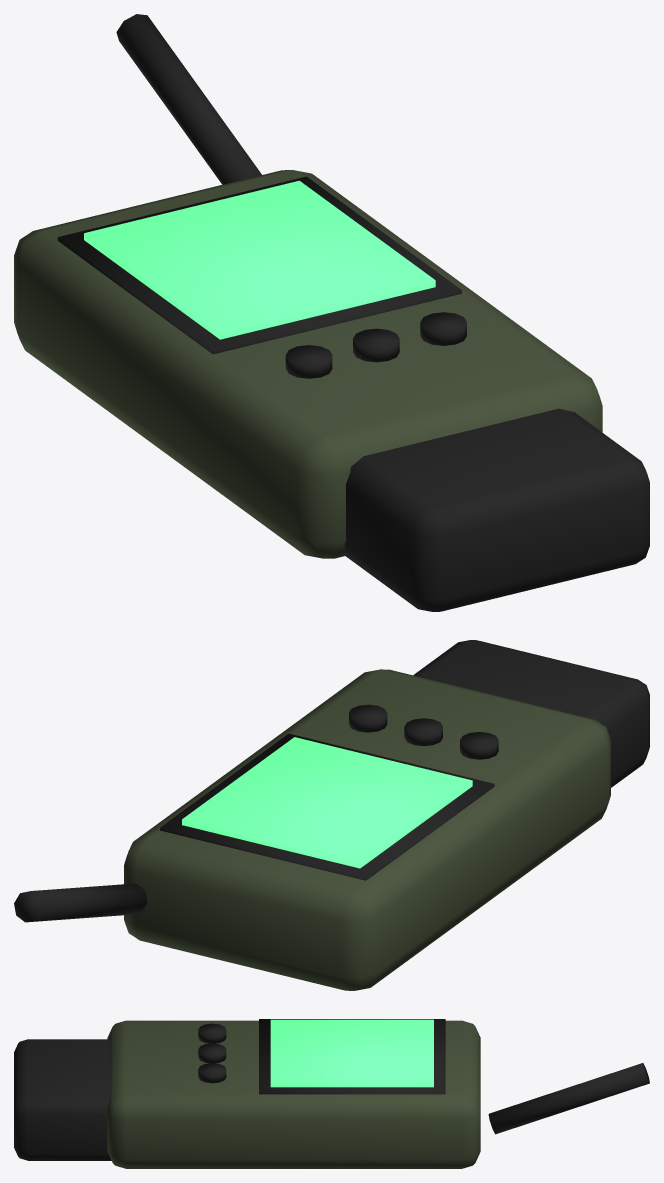
File: tracker.glb
3 views of the same model, one above another, from view 1: azimuth 30°, elevation 25°; view 2: azimuth 150°, elevation 25°; view 3: azimuth 270°, elevation 25° (orthographic). The views are drawn at different scales.
Parts seen in each view (by area): view 1: body.001, grip.001, screen, bezel, antenna, btn, btn.001, btn.002; view 2: body.001, screen, grip.001, bezel, antenna, btn.001, btn.002, btn; view 3: body.001, grip.001, screen, antenna, bezel, btn, btn.001, btn.002.
Boxes of the visible parts, x1=… form: body.001: x1=14, y1=170, x2=602, y2=558; grip.001: x1=344, y1=408, x2=649, y2=611; screen: x1=84, y1=180, x2=435, y2=339; bezel: x1=57, y1=176, x2=461, y2=354; antenna: x1=116, y1=14, x2=261, y2=184; btn: x1=285, y1=345, x2=332, y2=378; btn.001: x1=353, y1=328, x2=399, y2=362; btn.002: x1=420, y1=312, x2=466, y2=345; body.001: x1=124, y1=669, x2=610, y2=990; screen: x1=182, y1=737, x2=472, y2=868; grip.001: x1=413, y1=640, x2=649, y2=787; bezel: x1=160, y1=733, x2=494, y2=880; antenna: x1=14, y1=883, x2=147, y2=922; btn.001: x1=404, y1=718, x2=442, y2=746; btn.002: x1=349, y1=704, x2=387, y2=732; btn: x1=460, y1=732, x2=498, y2=759; body.001: x1=107, y1=1020, x2=480, y2=1168; grip.001: x1=14, y1=1039, x2=111, y2=1160; screen: x1=270, y1=1019, x2=433, y2=1087; antenna: x1=488, y1=1063, x2=649, y2=1134; bezel: x1=259, y1=1019, x2=445, y2=1094; btn: x1=198, y1=1023, x2=226, y2=1043; btn.001: x1=198, y1=1043, x2=226, y2=1063; btn.002: x1=198, y1=1063, x2=226, y2=1083.
Size of the model in its own units: 0.09 by 0.0486 by 0.2725.
